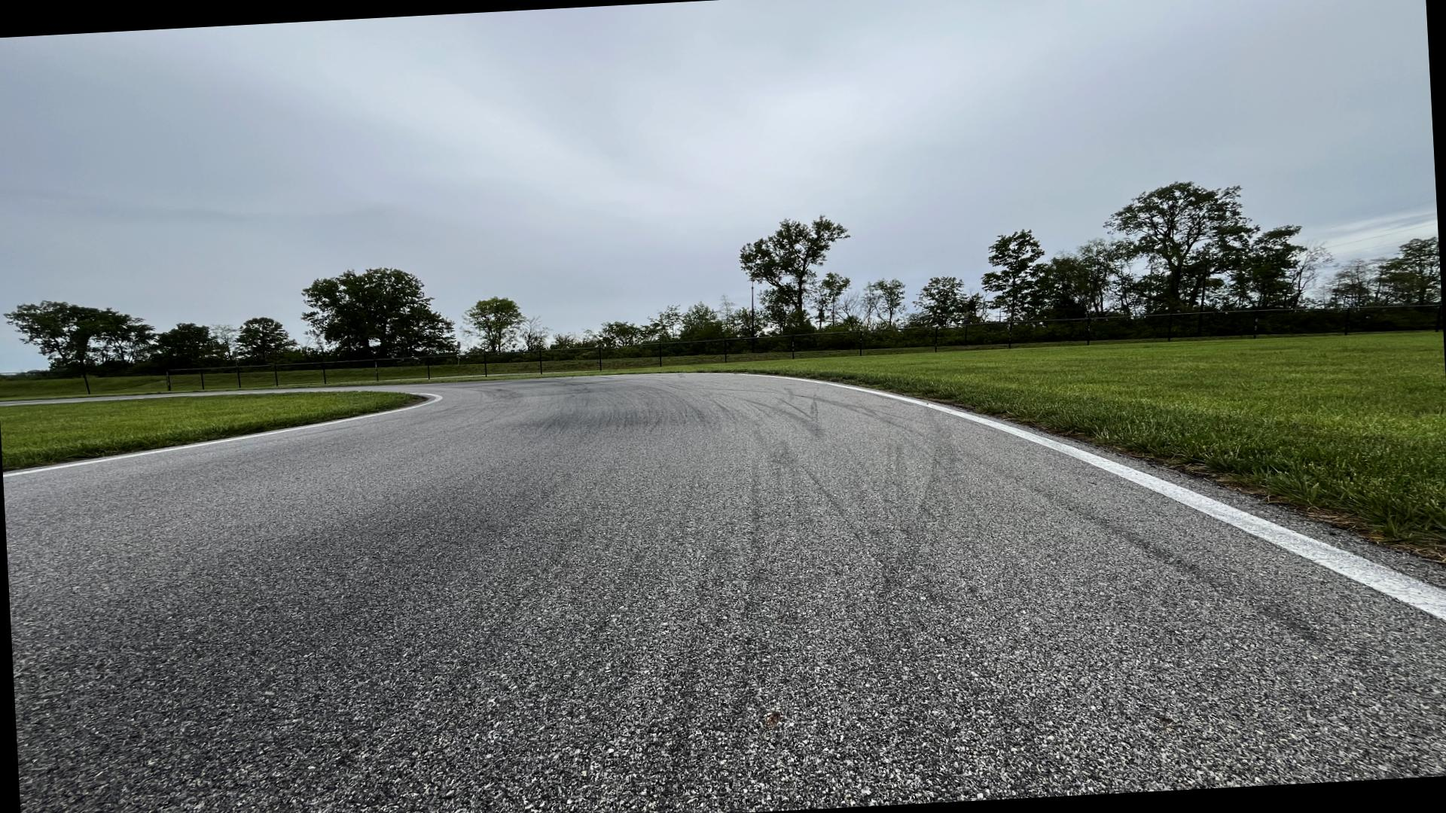white-line: (919, 401, 1445, 622), (4, 425, 317, 477)
